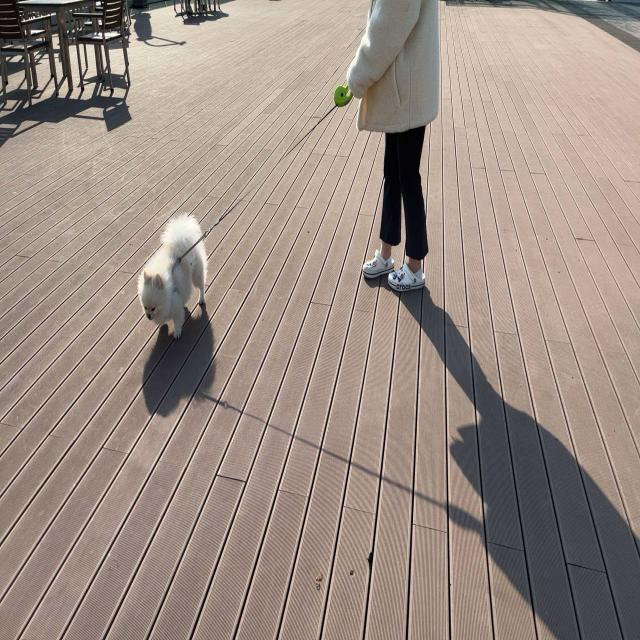Leashed_Dog: (137, 46, 406, 342)
